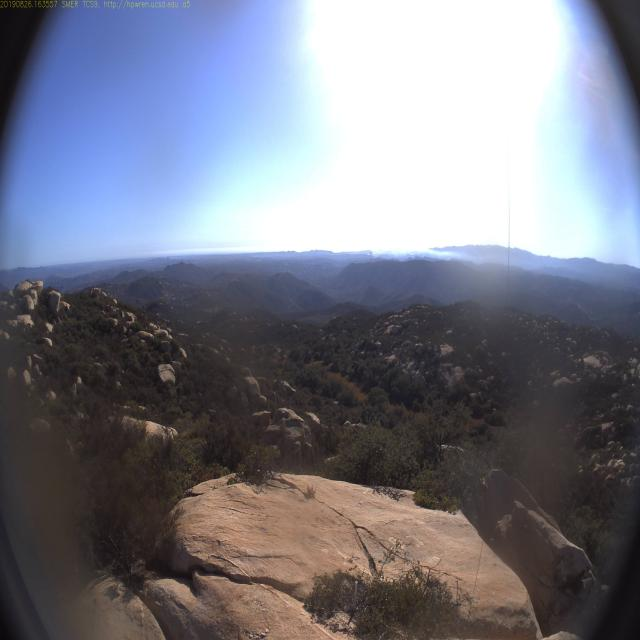smoke: (366, 249, 375, 258)
